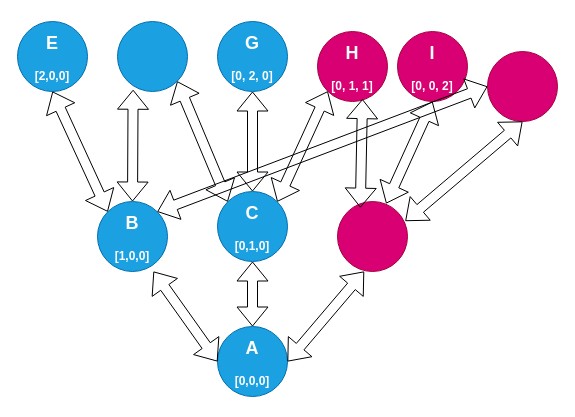
This 575x417 diagram has some shape labels left out. Here are the shapes that lost their labels. From the top down, the centre of each, then its label:
the point at 152,56: F [1, 1, 0]
the point at 522,86: J [1, 0, 1]
the point at 372,236: D [0,0,1]
